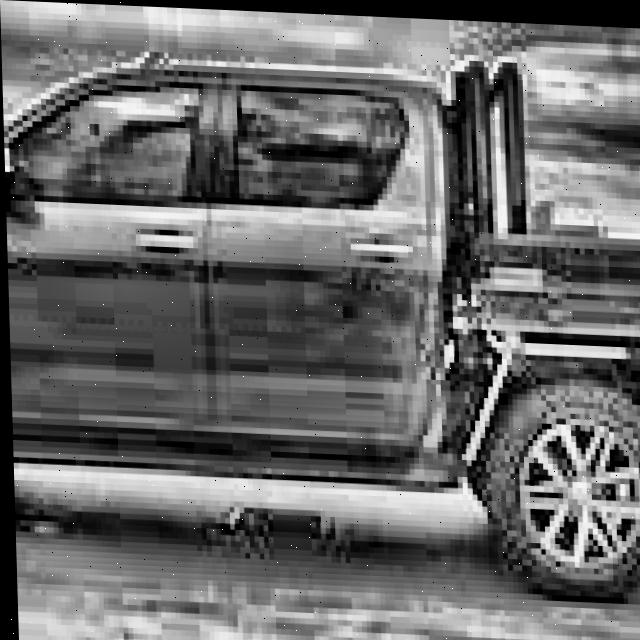light_vehicle: (1, 29, 640, 605)
